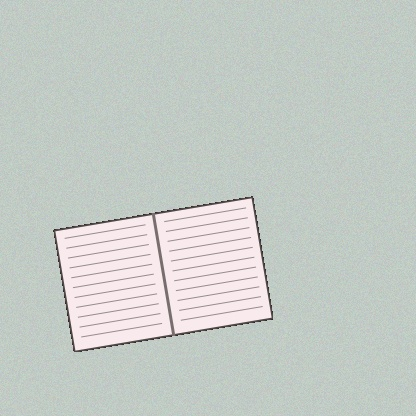book: (53, 196, 273, 352)
